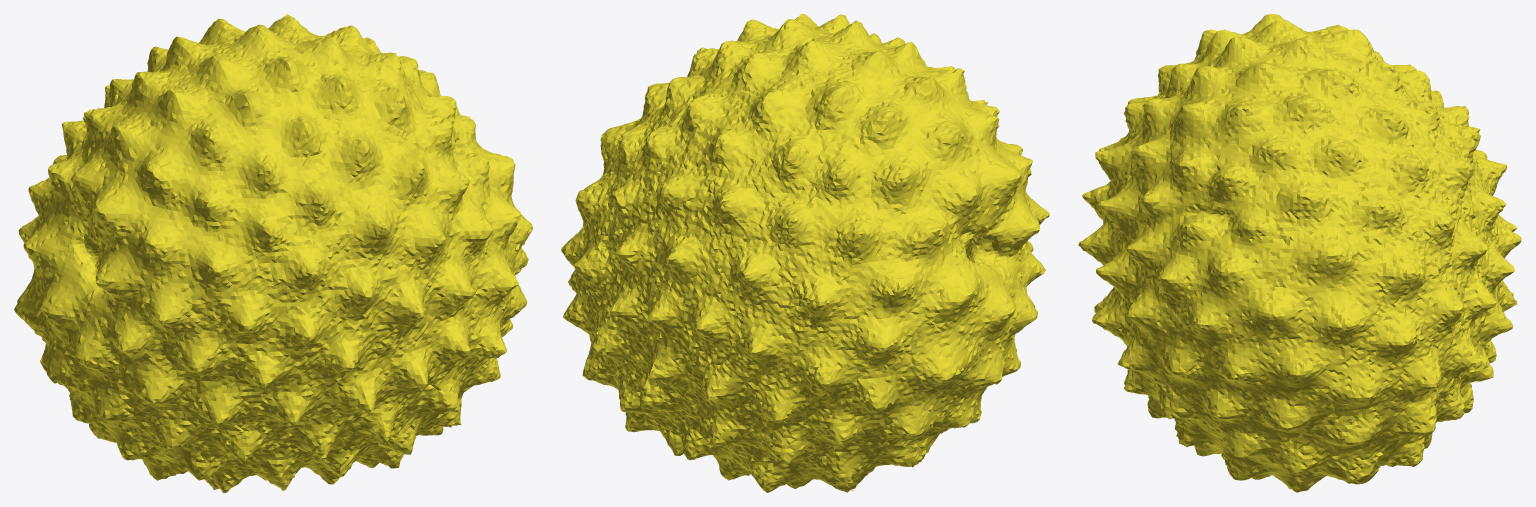
Rendered from Sap2.fbx.
The picture shows the model from 3 angles, left to right: view 1: azimuth 30°, elevation 25°; view 2: azimuth 150°, elevation 25°; view 3: azimuth 270°, elevation 25°; orthographic projection. The views are drawn at different scales.
Parts seen in each view (by area): view 1: Ambrosia-psilostachya-2500scale-000082193; view 2: Ambrosia-psilostachya-2500scale-000082193; view 3: Ambrosia-psilostachya-2500scale-000082193.
Part boxes in pixels (left/top/right/bottom): Ambrosia-psilostachya-2500scale-000082193: left=14, top=14, right=532, bottom=492; Ambrosia-psilostachya-2500scale-000082193: left=561, top=14, right=1049, bottom=492; Ambrosia-psilostachya-2500scale-000082193: left=1078, top=14, right=1521, bottom=492.
Bounding box in the file's own units: 6957 × 6608 × 6451.
